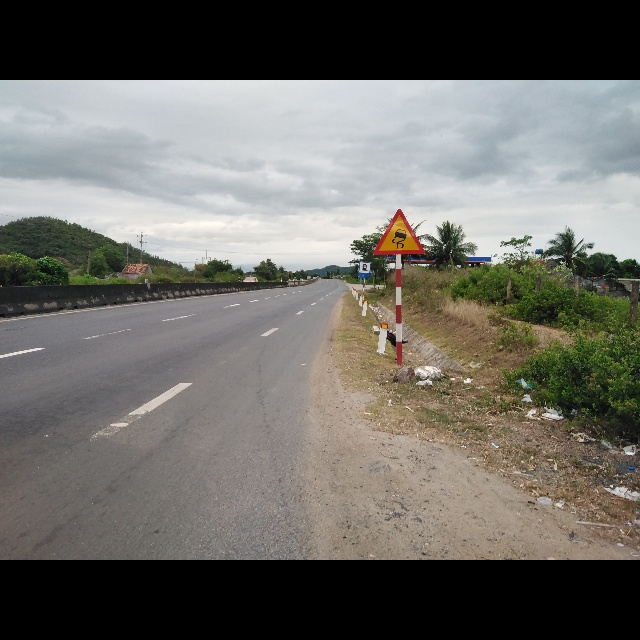Đường trơn trượt: (374, 207, 426, 256)
